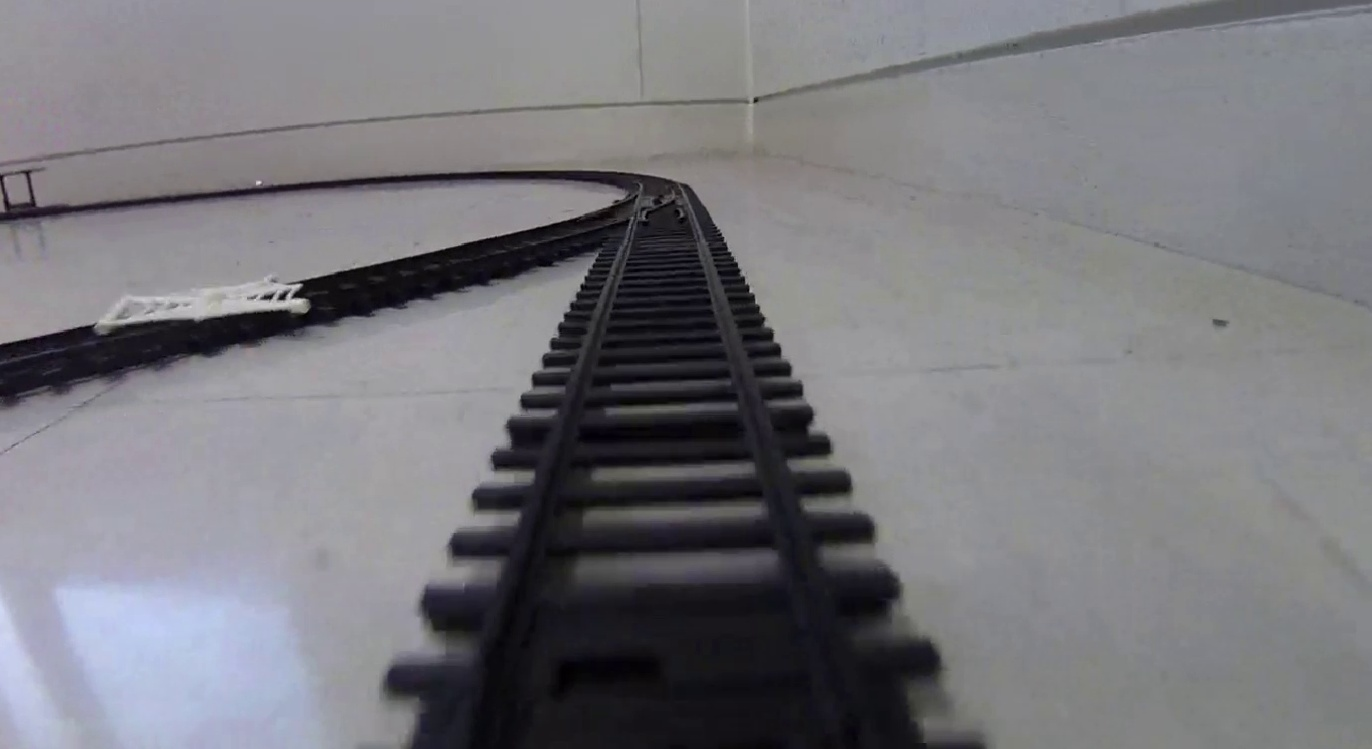web: (102, 277, 310, 317)
